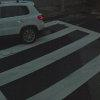Crosswalk: (4, 39, 100, 100)
